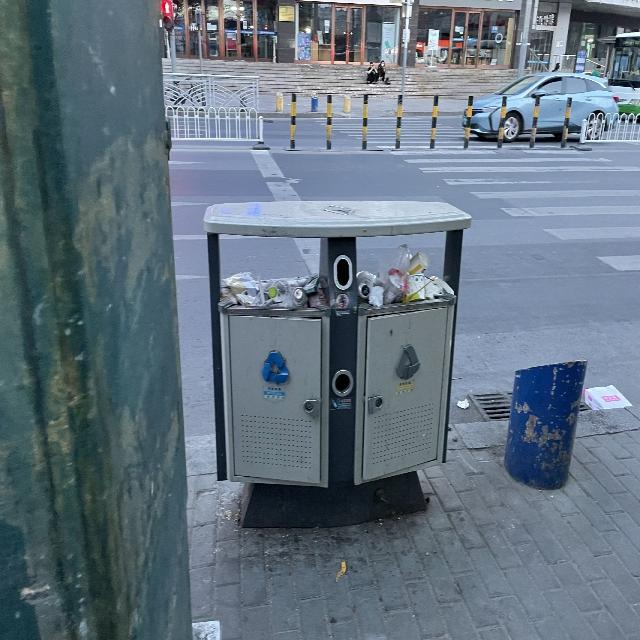overflow: (207, 202, 471, 529)
